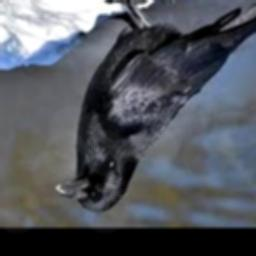Crow: (55, 0, 256, 213)
